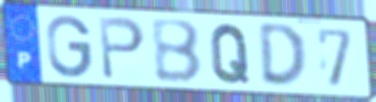7: (316, 26, 355, 89)
B: (148, 18, 205, 86)
D: (256, 21, 310, 91)
G: (45, 14, 94, 80)
P: (96, 15, 148, 83)
Q: (208, 22, 252, 86)
